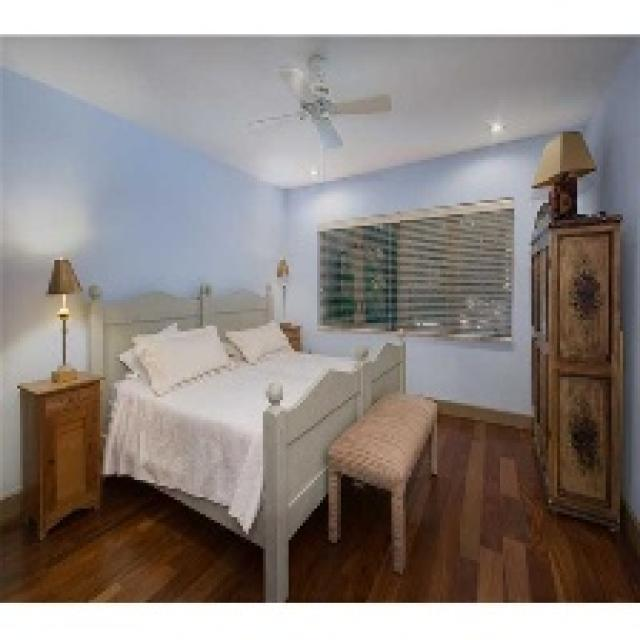Bed: (86, 271, 406, 600)
